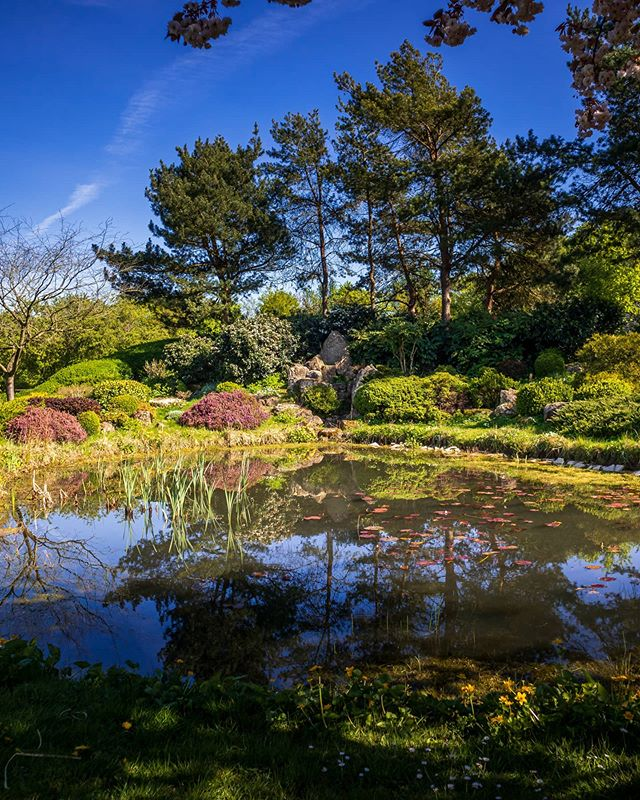grass: (52, 676, 640, 800)
river: (25, 434, 640, 678)
sky: (3, 1, 583, 257)
tree: (350, 59, 485, 319), (113, 125, 293, 311), (474, 104, 592, 325), (250, 109, 363, 305), (1, 226, 83, 388)
vegetation: (30, 318, 640, 481)
